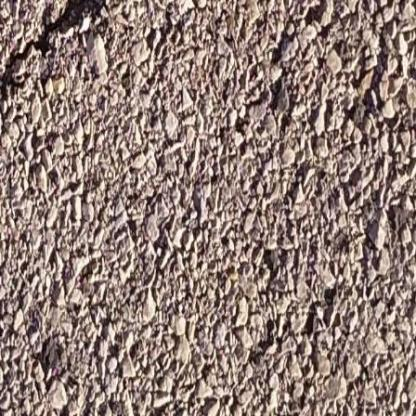Cracks: (0, 0, 105, 107)
